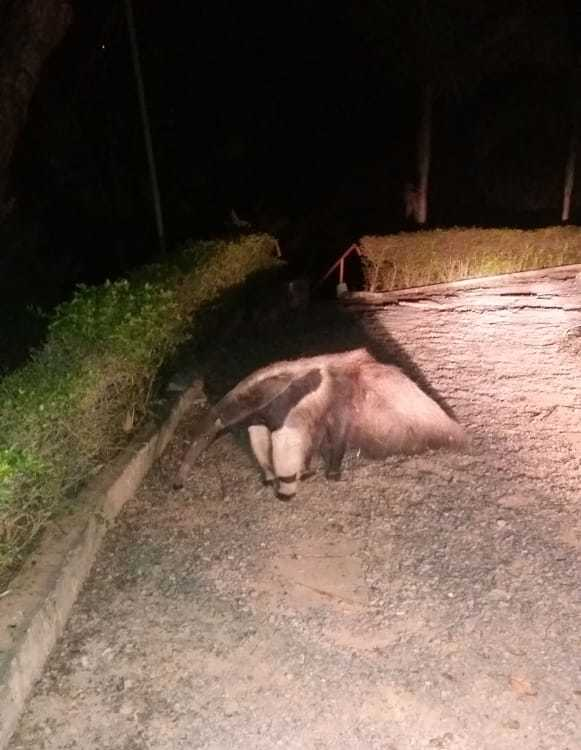TamanduaBandeira: (168, 344, 478, 503)
